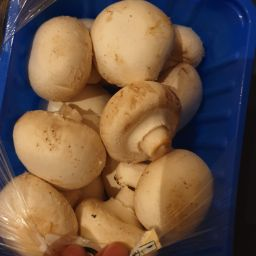Mushrooms: (89, 79, 202, 177), (2, 96, 118, 190), (121, 141, 223, 238), (28, 8, 104, 130), (71, 184, 183, 256), (89, 4, 184, 86), (5, 168, 89, 256), (162, 10, 215, 117)
